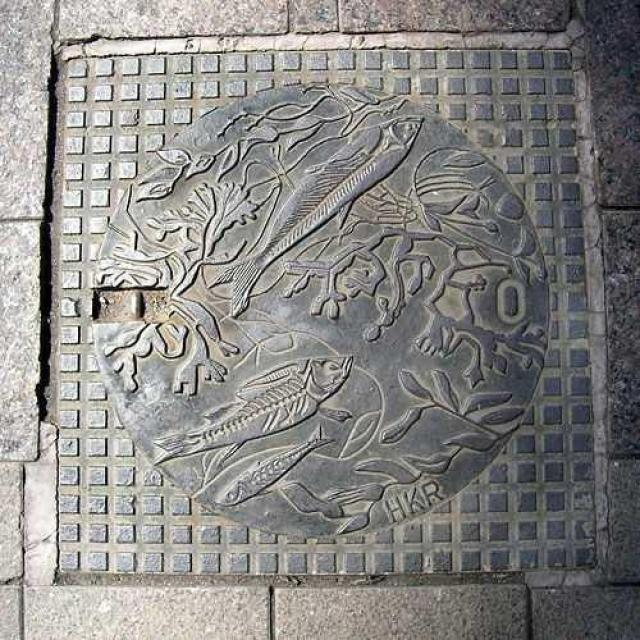manhole: (46, 0, 599, 575)
